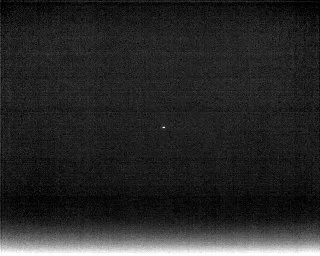AIRPLANE: (158, 123, 168, 132)
